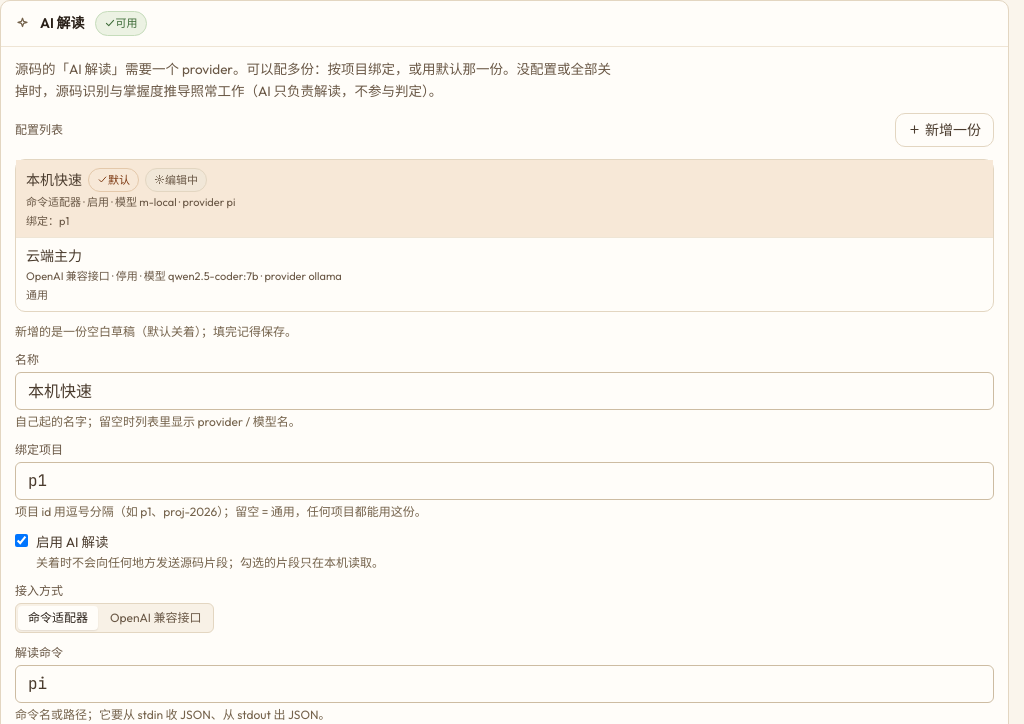
it: M9 · 「AI 解读」区 · 多份并存 › ③ 「新增一份」⇒ **列表多一行**（且是空白草稿、默认关着）
Expected: the button "本机快速 默认 编辑中 命令适配器 · 启用 · 模型 m-local · provider pi 绑定：p1" is shown, [16, 160, 993, 237]
Expected: the number of list items is 2, [16, 160, 993, 238]; [16, 238, 993, 311]
Click the button "新增一份".
click(944, 130)  # box [895, 113, 994, 147]
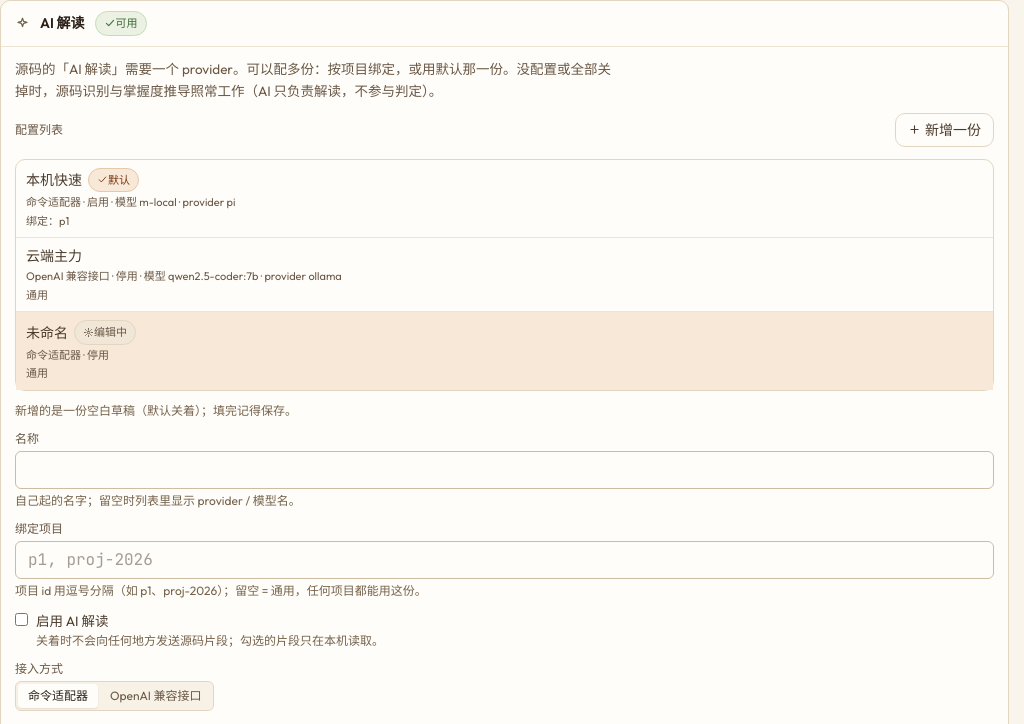
Expected: the button "命令适配器" is shown, [18, 684, 98, 708]
Expected: the number of list items is 3, [16, 160, 993, 238]; [16, 238, 993, 312]; [16, 312, 993, 390]
Expected: the checkbox is not checked, [15, 613, 28, 626]
